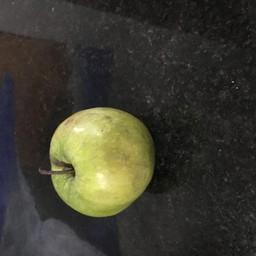Bad_apple: (48, 107, 156, 218)
